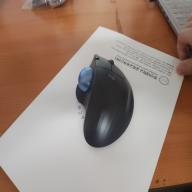mouse: (68, 40, 145, 150)
